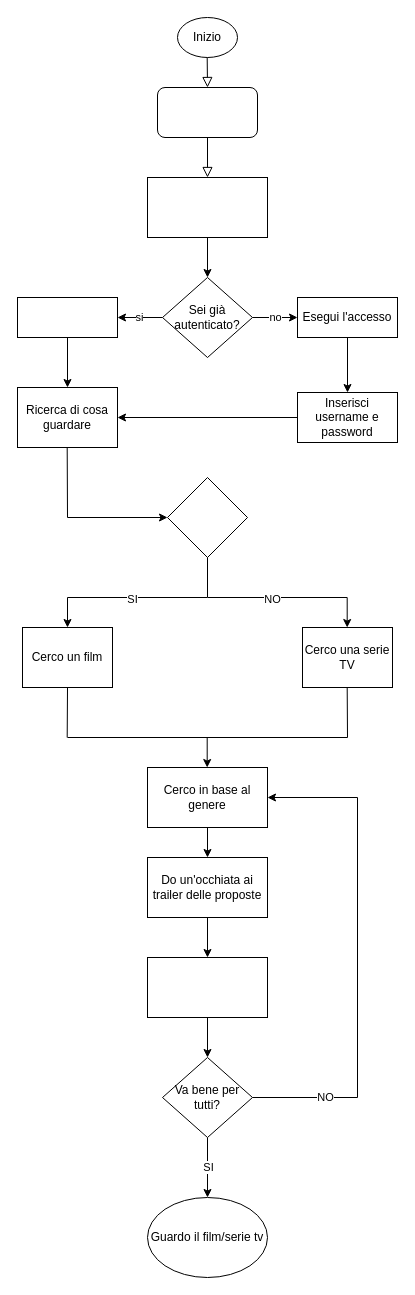
Image size: 415x1295. Some labels were removed from this diagram. The shapes that lost their labels are listed below. From the top down, each one's box as (x1, y1, x2, y2) in pixels, then its label:
(156, 86, 258, 138): Accendi la TV
(146, 176, 268, 238): Apri Netflix
(16, 296, 118, 338): Accedi con un profilo
(166, 476, 248, 558): Ho molto tempo?
(146, 956, 268, 1018): Scelgo il film/serie tv
